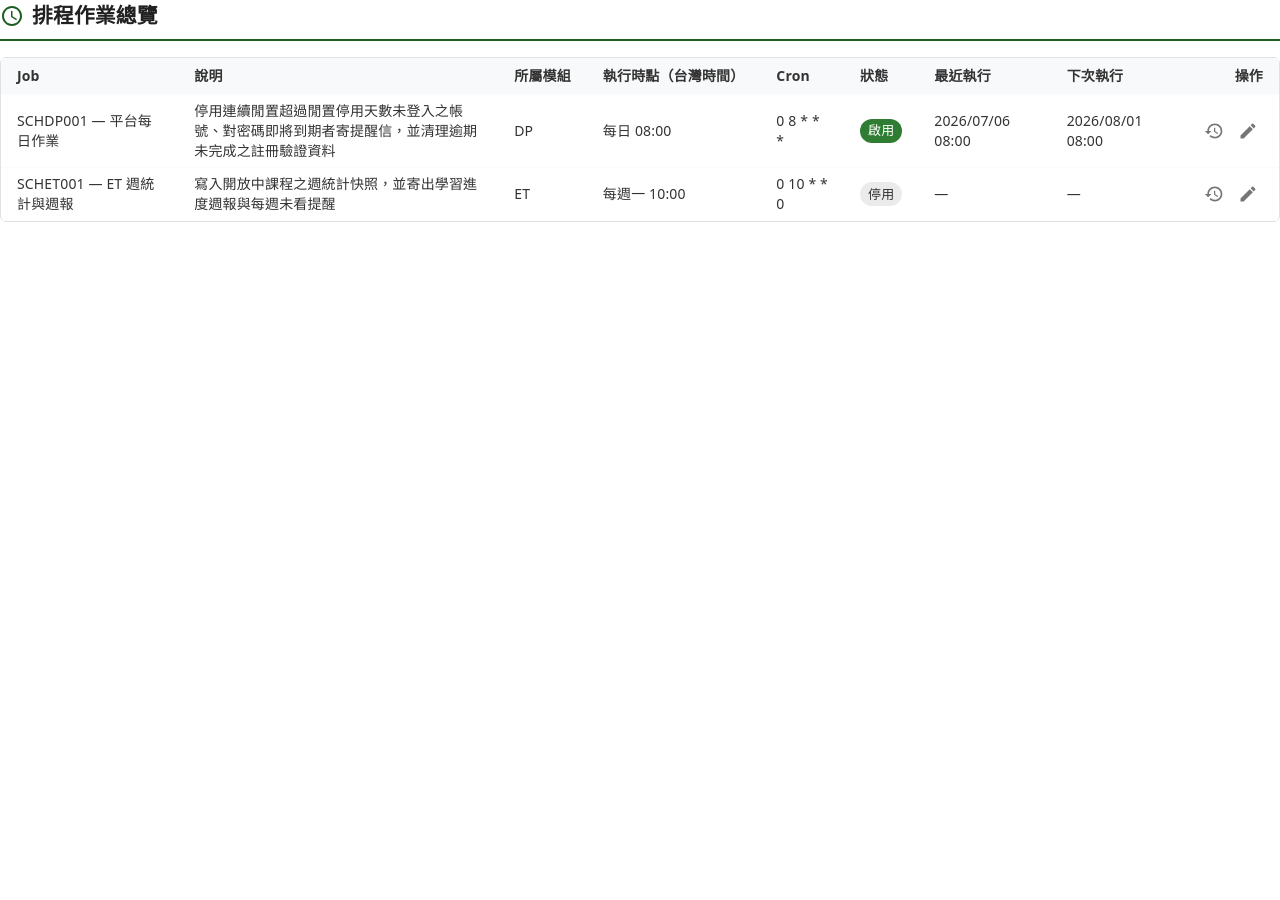
Test: SchedulePage 排程作業總覽（可編輯） › 點歷程 → 開 Dialog 顯示執行歷程
The width and height of the screenshot is (1280, 900).
Check: the text "SCHDP001 — 平台每日作業" is shown, box left=1, top=95, right=178, bottom=168
Click the button named "執行歷程" in the row of "SCHDP001 — 平台每日作業" at (1214,131), box left=1199, top=116, right=1229, bottom=146
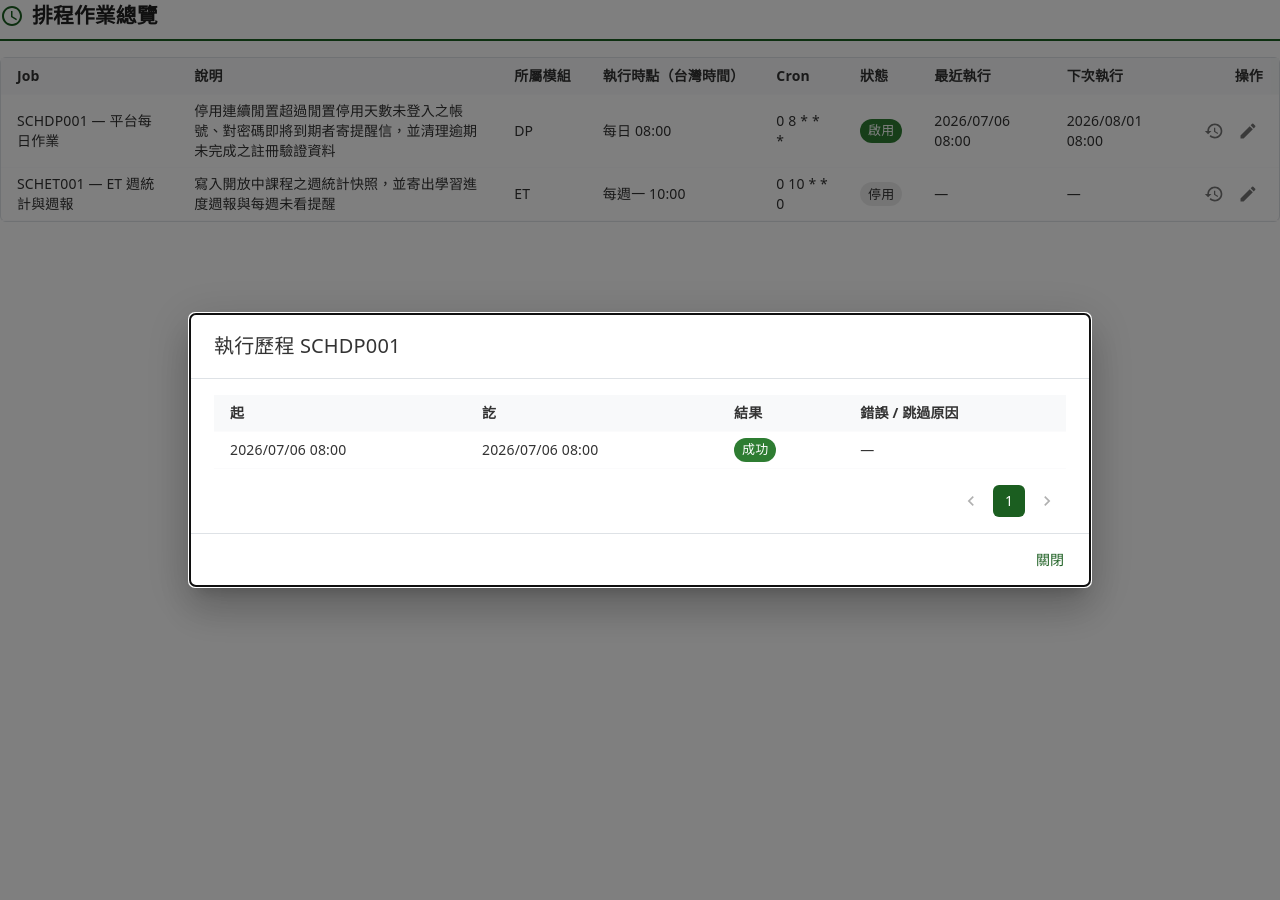
Check: the heading "執行歷程 SCHDP001" is shown, box left=214, top=332, right=401, bottom=359
Check: the column heading "錯誤 / 跳過原因" is shown, box left=844, top=395, right=1066, bottom=431
